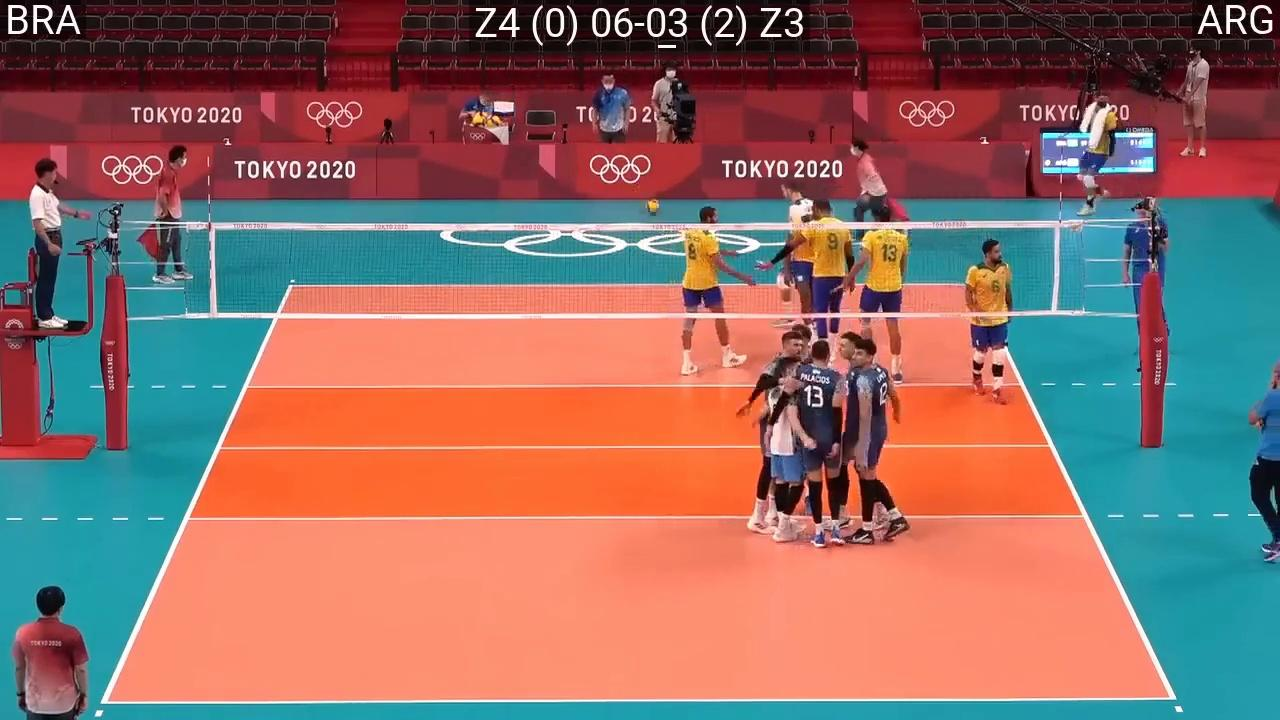ball: (646, 200, 661, 216)
